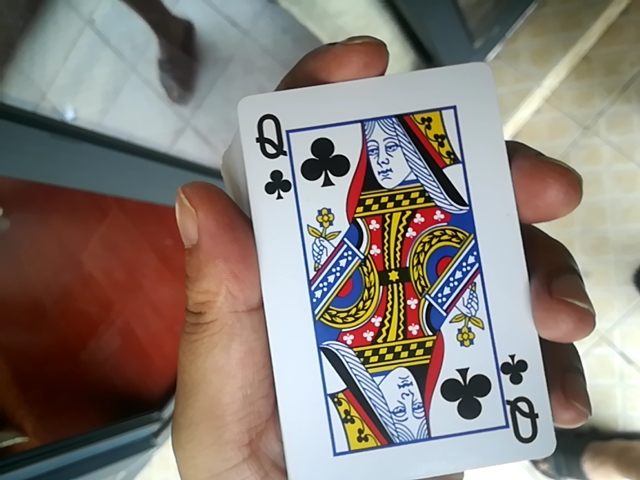mh q: (232, 56, 545, 469)
